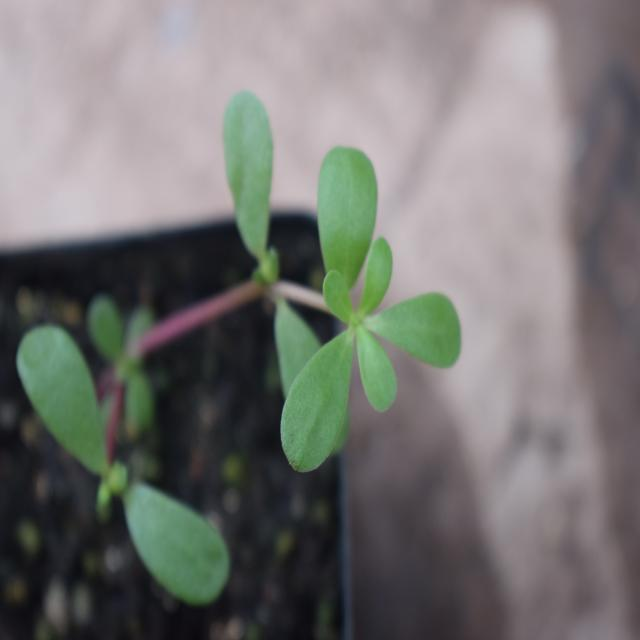purslane: (176, 83, 481, 505)
